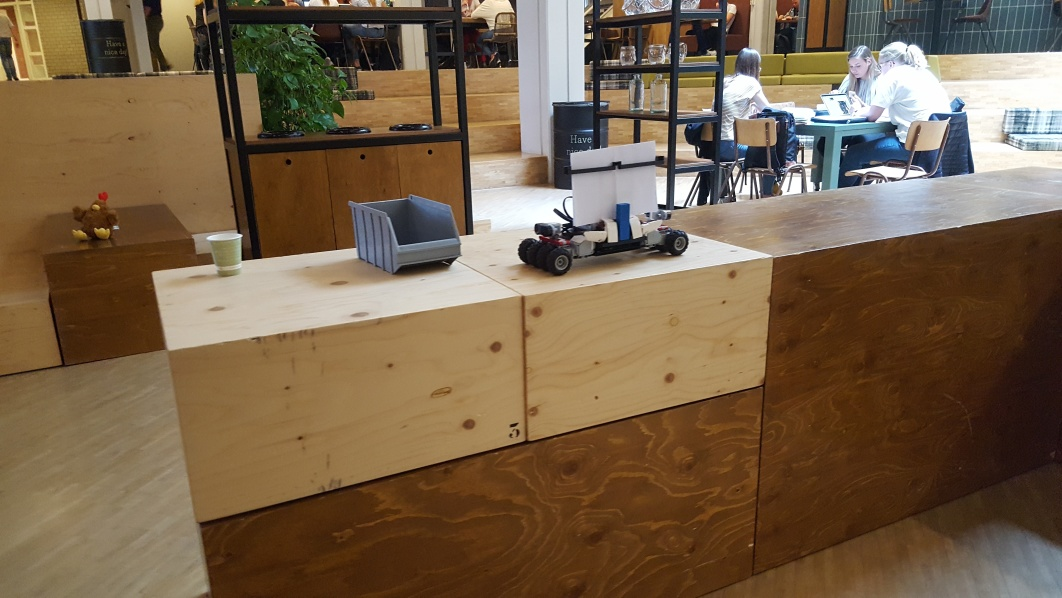car: (516, 139, 687, 276)
chicken: (70, 191, 122, 240)
cup: (206, 231, 246, 278)
tray: (345, 193, 462, 275)
